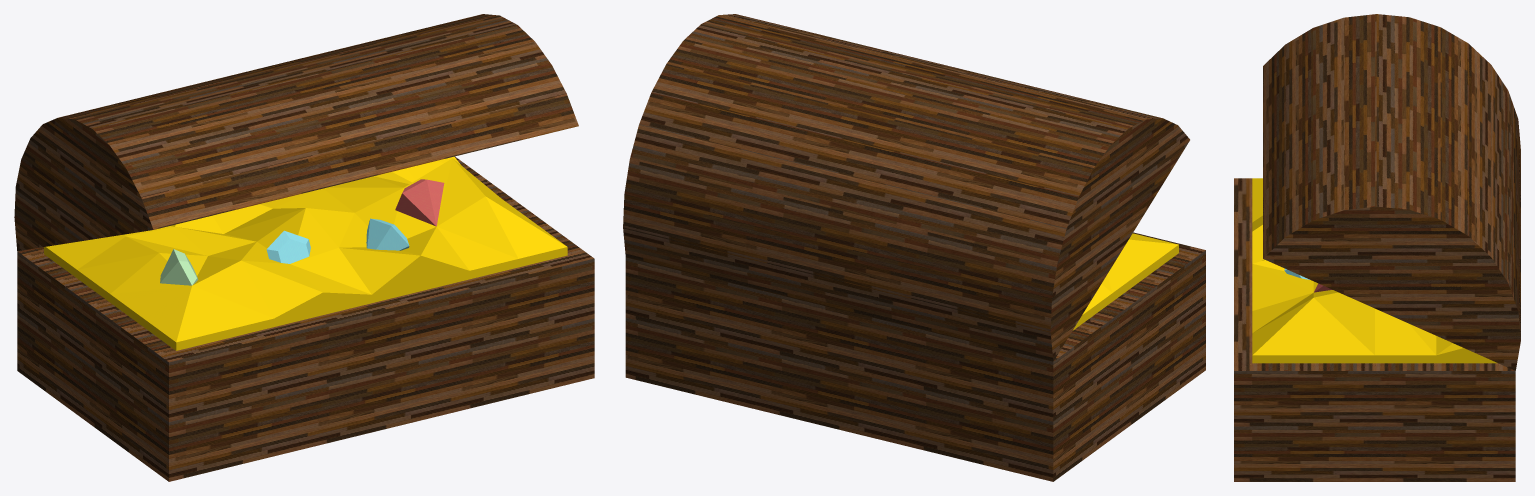
3 views of the same model, side by side, from view 1: azimuth 30°, elevation 25°; view 2: azimuth 150°, elevation 25°; view 3: azimuth 270°, elevation 25° (orthographic). The views are drawn at different scales.
Parts seen in each view (by area): view 1: SketchUp (×3), group_0, group_2, group_3, group_1; view 2: SketchUp (×3); view 3: SketchUp (×3).
Boxes of the visible parts, x1,y1,x2,y2 form: SketchUp (×3): (14, 14, 594, 481); group_0: (395, 179, 444, 226); group_2: (366, 218, 409, 250); group_3: (266, 230, 310, 263); group_1: (160, 249, 198, 285); SketchUp (×3): (623, 14, 1205, 481); SketchUp (×3): (1234, 14, 1520, 481).
Bounding box in the file's own units: 1781 × 1120 × 1187.
Materials: 5 (4 with a texture image).
